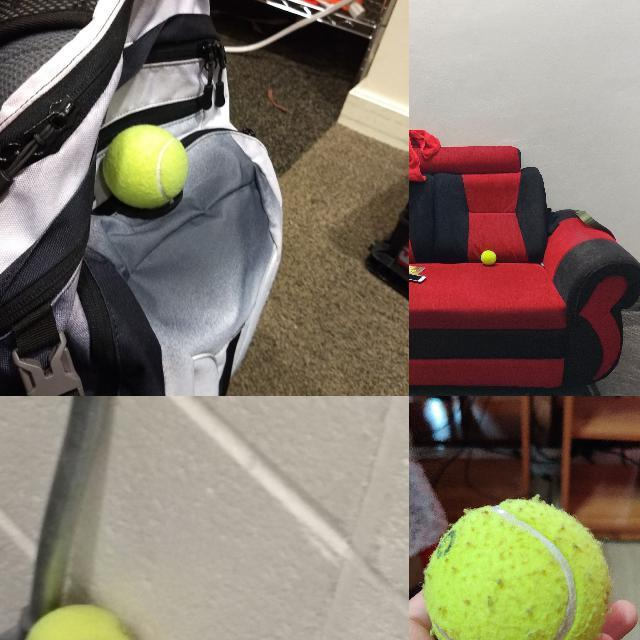tennis-ball: (422, 498, 612, 639), (102, 124, 188, 209), (18, 602, 143, 639), (480, 249, 496, 265)
